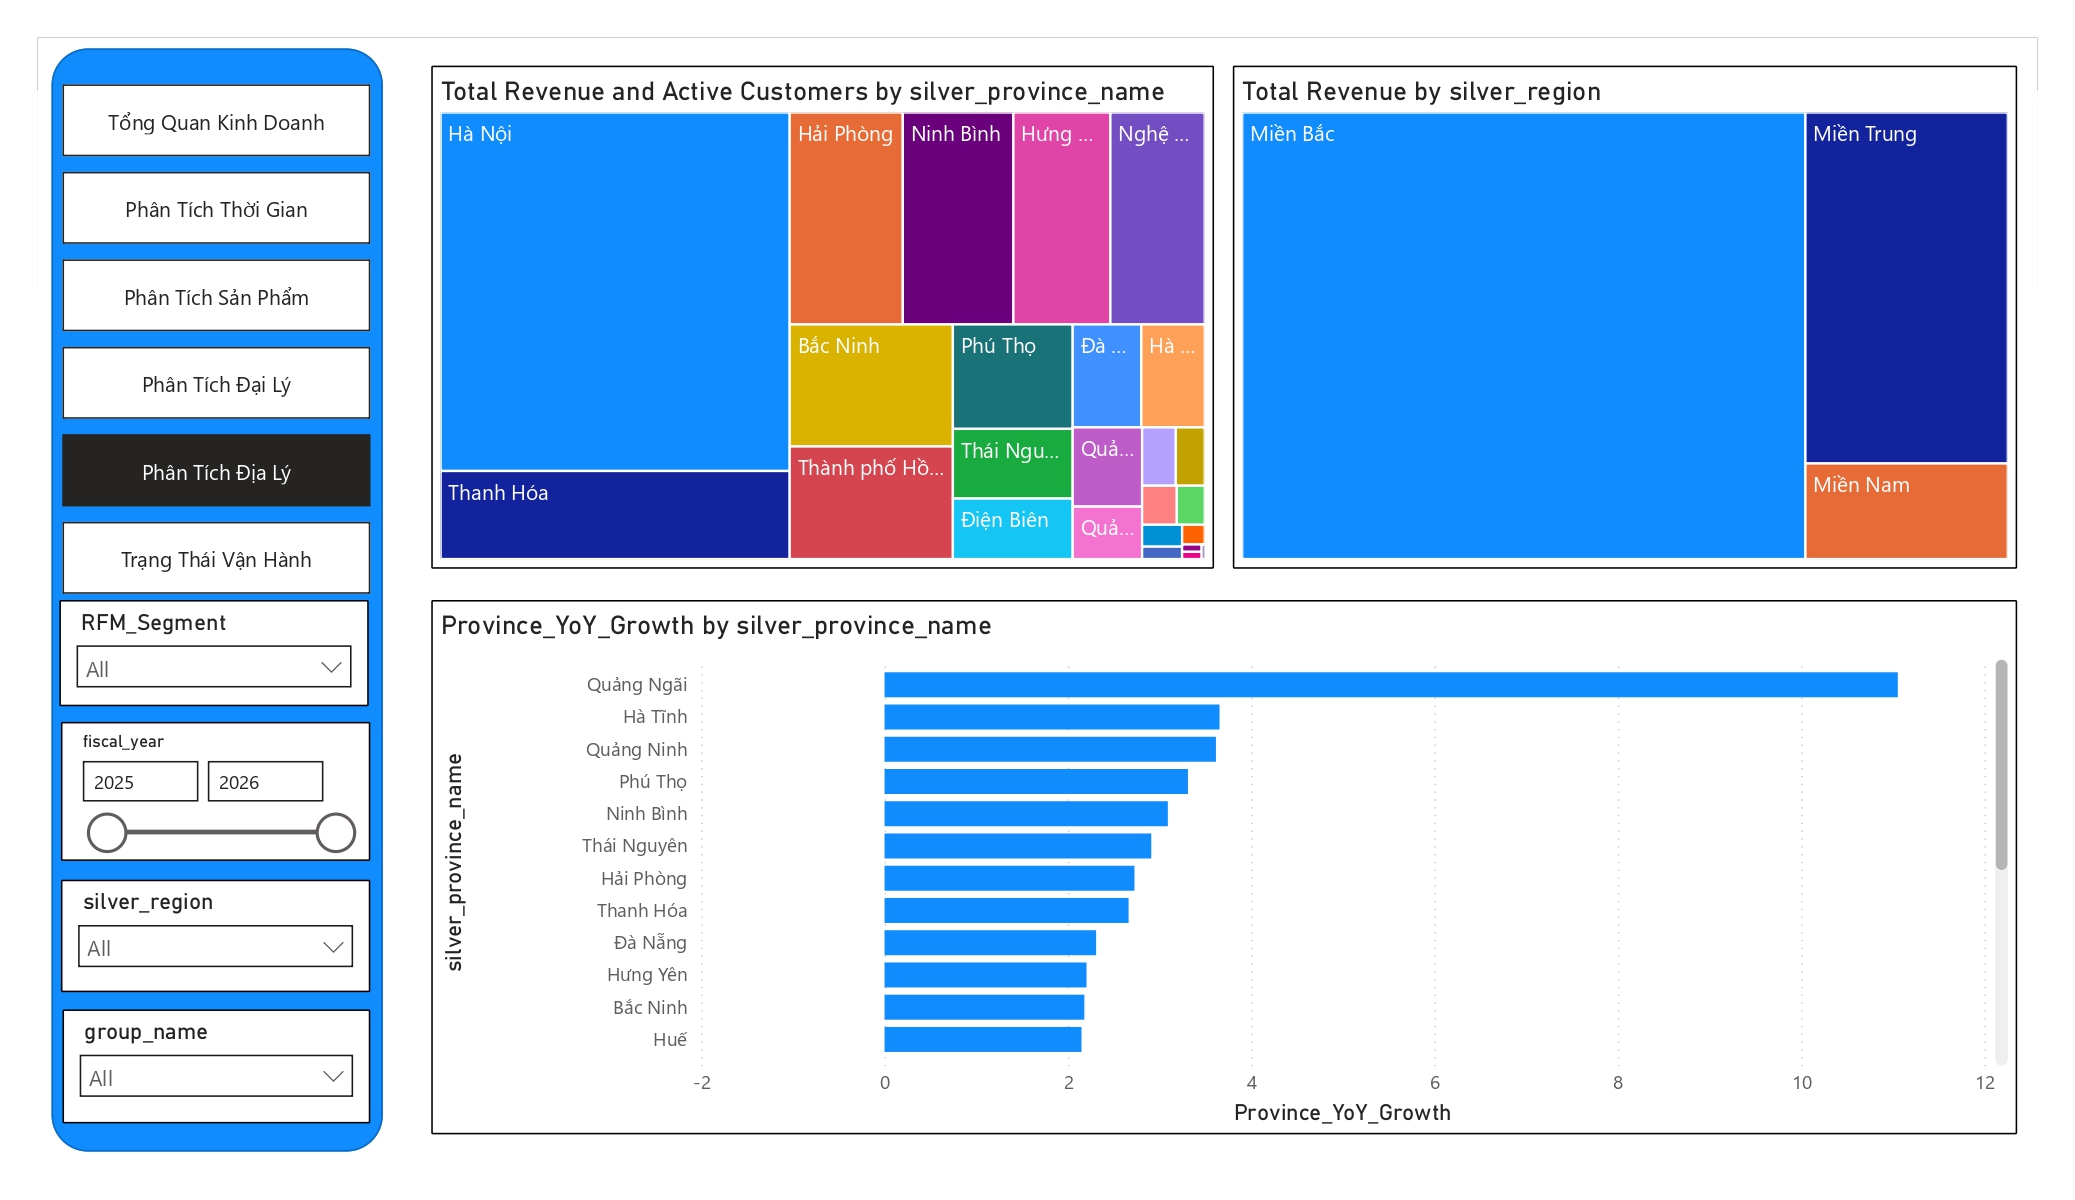

This screenshot's page, from the dashboard's own definition file:
{"tool":"powerbi","page":{"name":"Phân Tích Địa Lý","canvas":[1280,720],"ordinal":4},"visuals":[{"type":"treemap","fields":{"Group":["gold_fact_sales.silver_province_name"],"Values":["_measures.Total Revenue"]},"box":[251.7,18.3,501.7,321.7],"z":0},{"type":"treemap","fields":{"Group":["gold_fact_sales.silver_region","gold_fact_sales.silver_province_name"],"Values":["_measures.Total Revenue"]},"box":[765,18.3,501.7,321.7],"z":1000},{"type":"clusteredBarChart","fields":{"Category":["gold_fact_sales.silver_province_name"],"Y":["_measures.Province_YoY_Growth"]},"box":[251.7,360,1015,341.7],"z":2000},{"type":"shape","box":[8.6,7.1,212.9,705.7],"z":3000},{"type":"slicer","fields":{"Values":["gold_fact_sales.silver_region"]},"box":[15.4,538.6,197.1,72.9],"z":4000},{"type":"slicer","fields":{"Values":["gold_fact_sales.group_name"]},"box":[15.8,622,197.1,72.9],"z":5000},{"type":"slicer","fields":{"Values":["gold_fact_sales.fiscal_year"]},"box":[15,438,198,89],"z":6000},{"type":"slicer","fields":{"Values":["RFM_Table.RFM_Segment"]},"box":[14,360,198,68],"z":7000},{"type":"pageNavigator","box":[15.8,30,196.7,330],"z":8000}]}

Visuals, with their boxes in screenshot pixels (x1, y1, x2, y2):
treemap - gold_fact_sales.silver_province_name x _measures.Total Revenue: bbox=[426, 66, 1200, 562]
treemap - gold_fact_sales.silver_region x gold_fact_sales.silver_province_name: bbox=[1217, 66, 1991, 562]
clusteredBarChart - gold_fact_sales.silver_province_name x _measures.Province_YoY_Growth: bbox=[426, 593, 1991, 1120]
shape: bbox=[51, 49, 379, 1137]
slicer - gold_fact_sales.silver_region: bbox=[62, 868, 366, 981]
slicer - gold_fact_sales.group_name: bbox=[62, 997, 366, 1109]
slicer - gold_fact_sales.fiscal_year: bbox=[61, 713, 366, 850]
slicer - RFM_Table.RFM_Segment: bbox=[59, 593, 365, 698]
pageNavigator: bbox=[62, 84, 366, 593]
